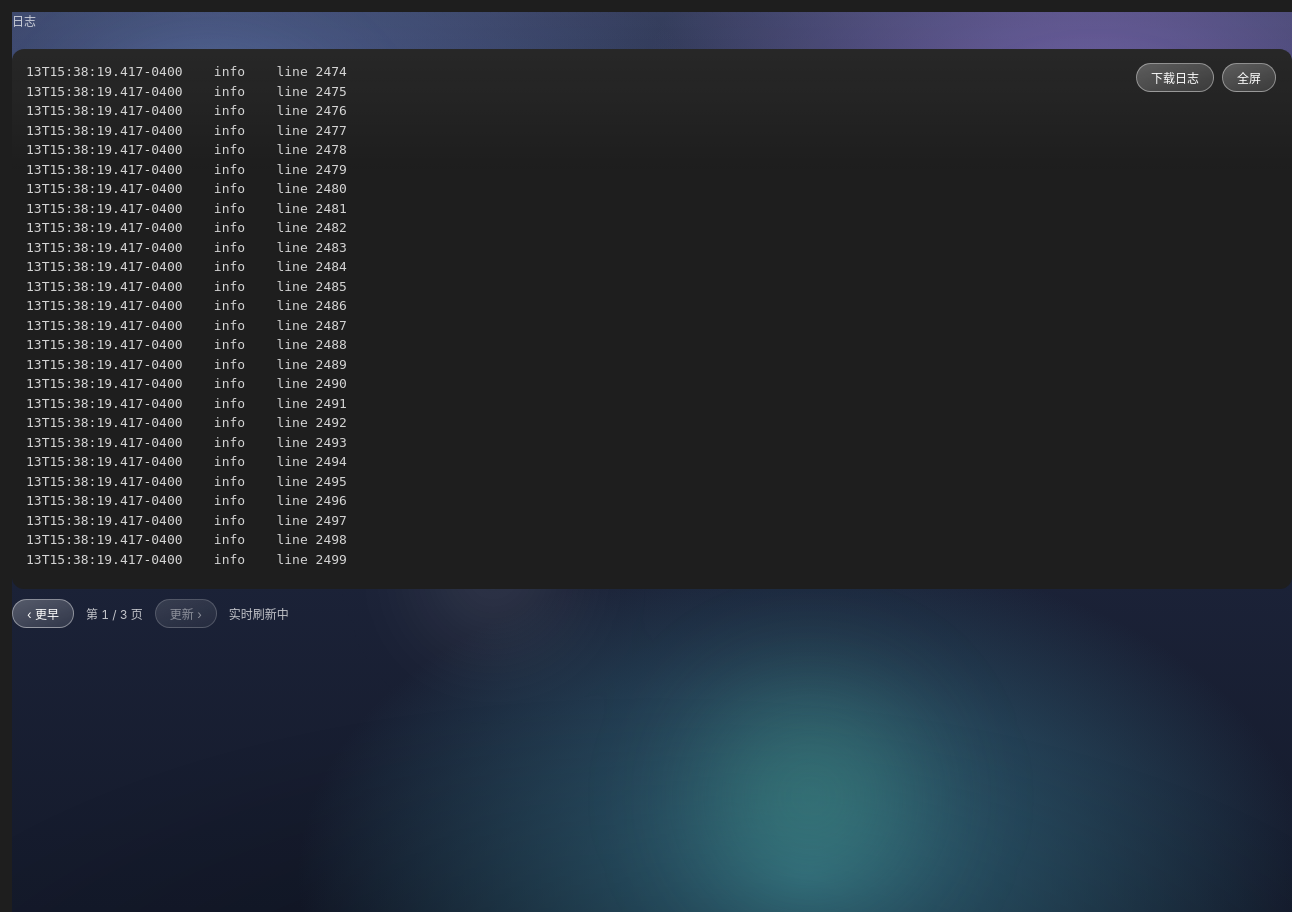
it: TerminalPanel › Newer is disabled on page 1 and Older is disabled on the last page
(page scrolled)
Expected: the button with test id "logs-newer" is disabled, left=155, top=599, right=217, bottom=628
Click the button with test id "logs-older" at x=43, y=614, box left=12, top=599, right=74, bottom=628
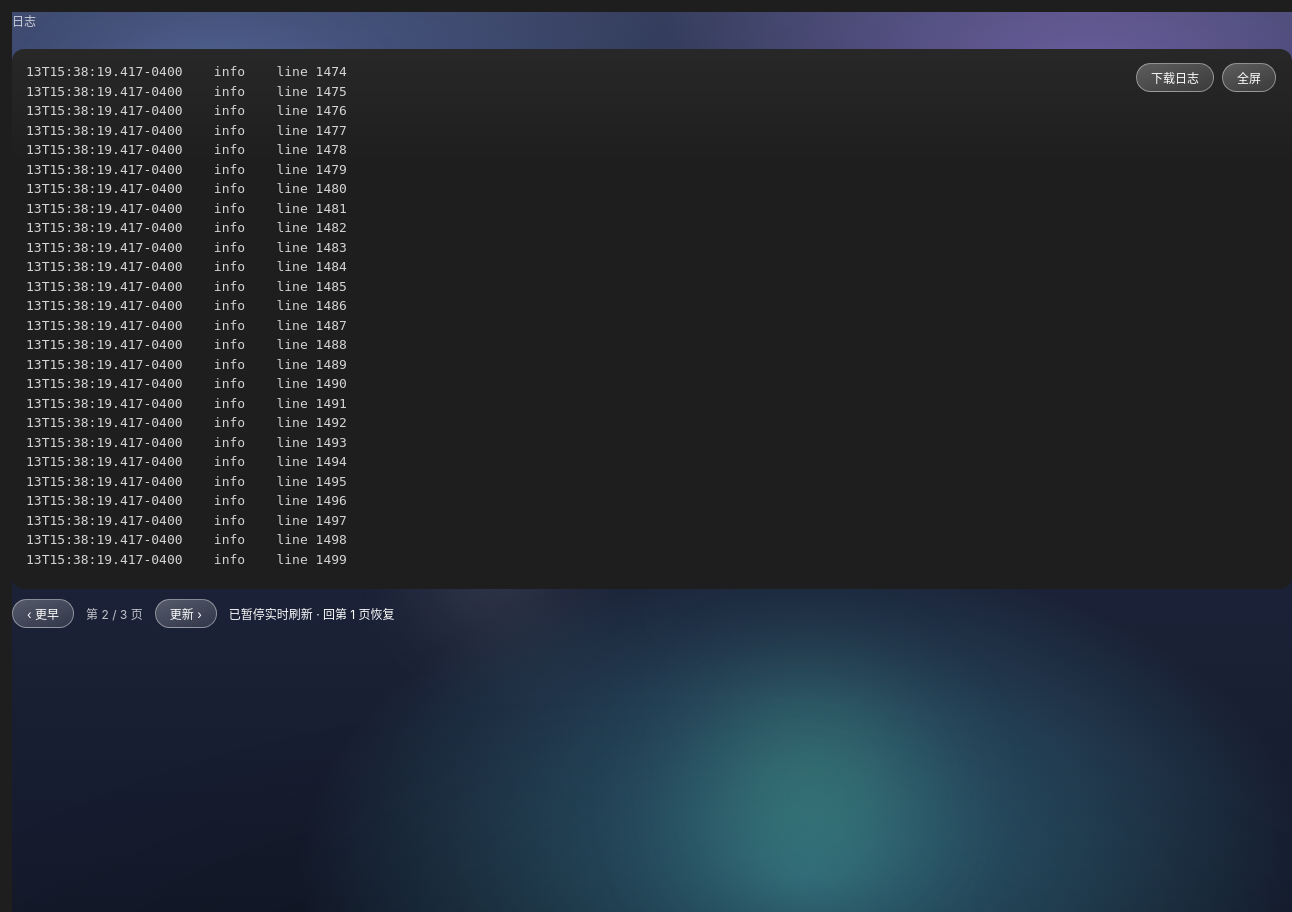
Click the button with test id "logs-older" at x=43, y=614, box left=12, top=599, right=74, bottom=628
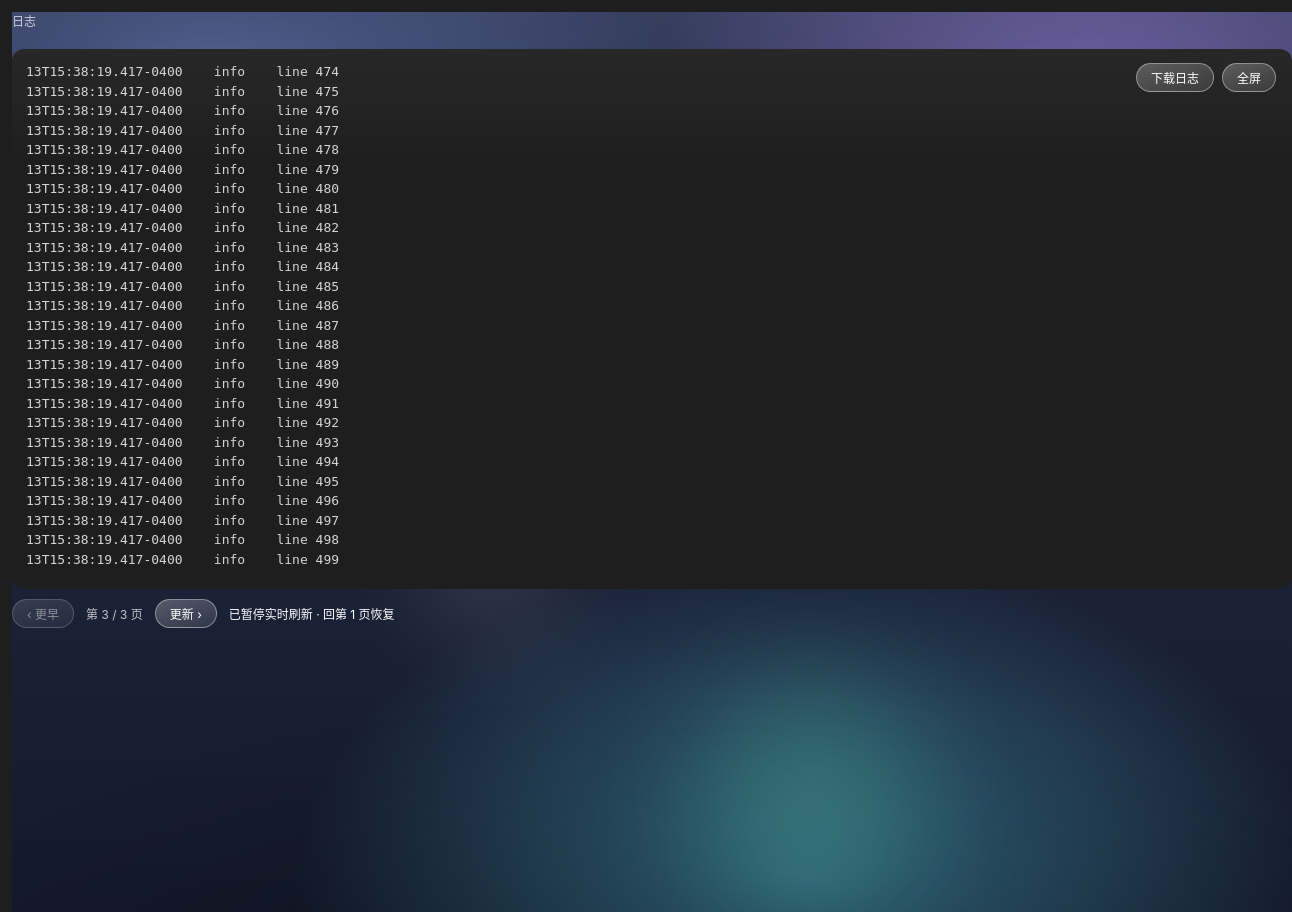
Now the text with test id "logs-page" reads "第 3 / 3 页", box left=86, top=607, right=143, bottom=622
Now the button with test id "logs-older" is disabled, box left=12, top=599, right=74, bottom=628
